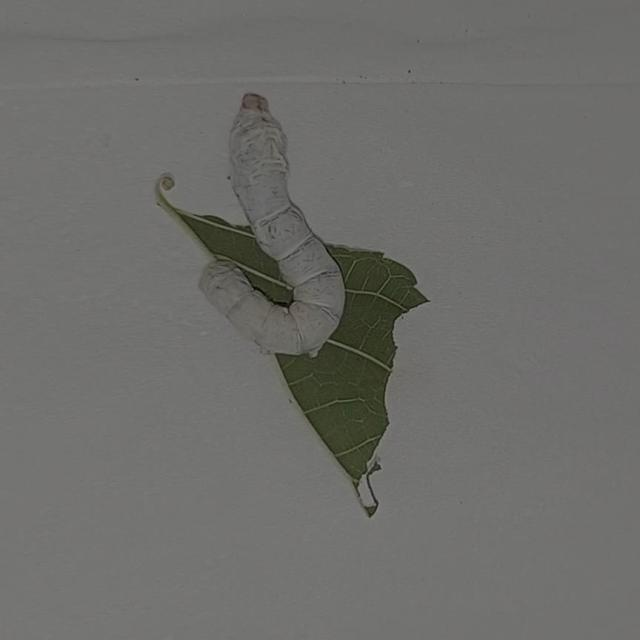Healthy: (187, 58, 349, 391)
